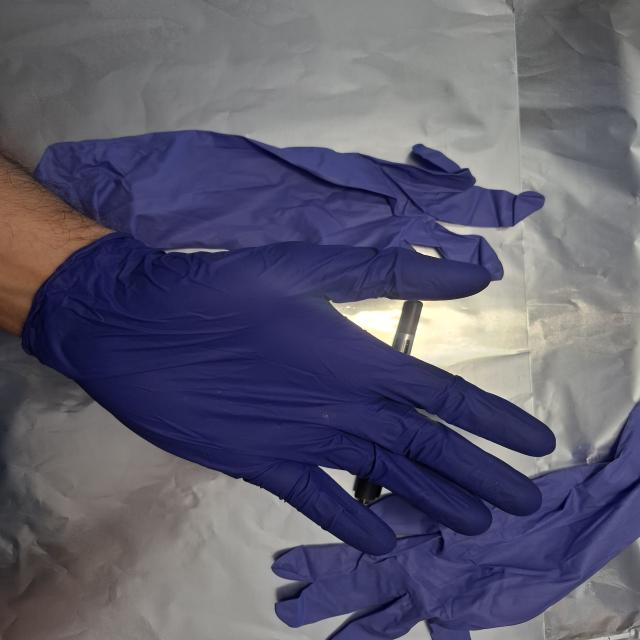glove_on: (17, 227, 560, 559)
